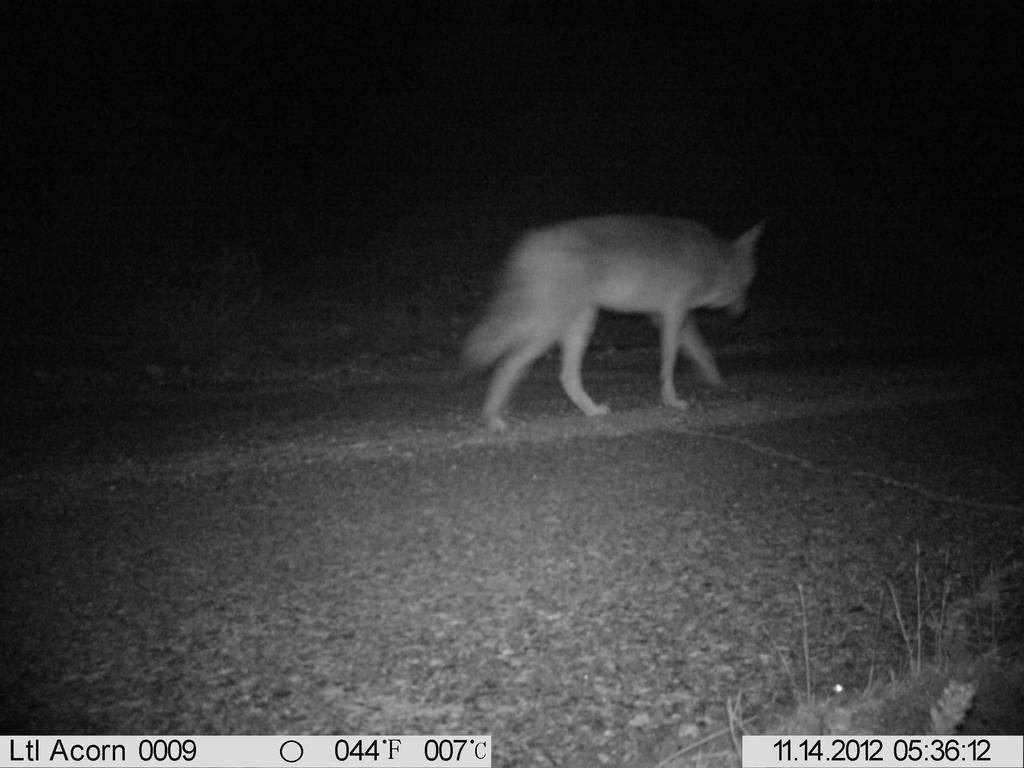coyote: (442, 199, 776, 445)
